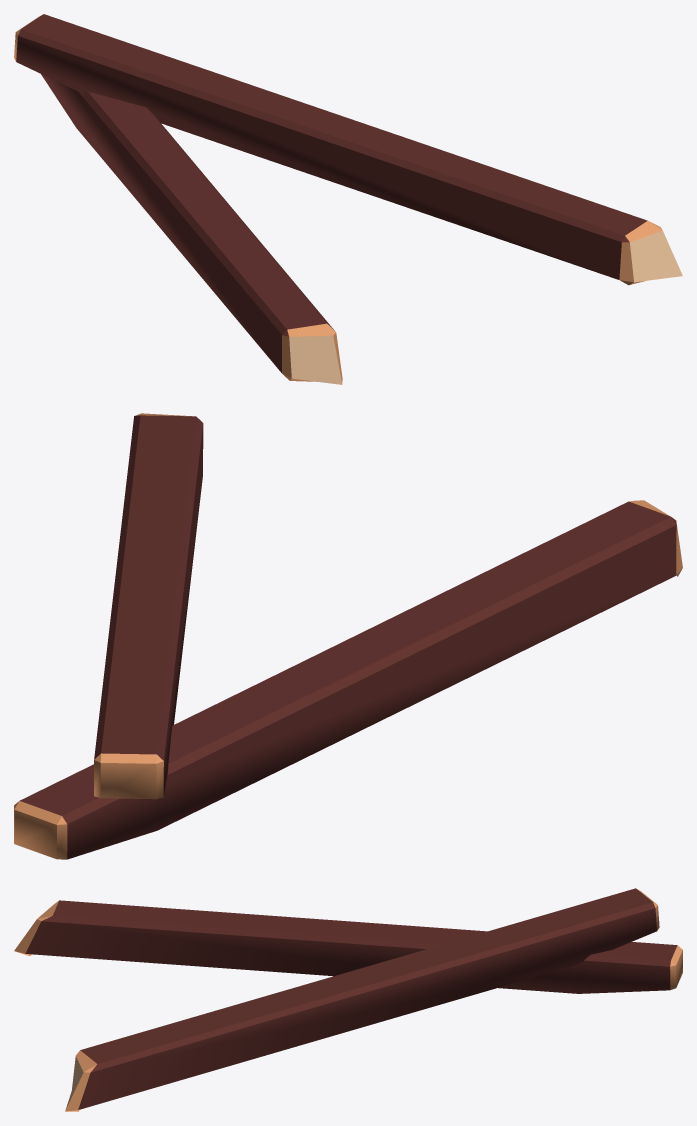
The model's file is Tronco 1 PRONTO.fbx.
3 renders of one model, top to bottom at view 1: azimuth 30°, elevation 25°; view 2: azimuth 150°, elevation 25°; view 3: azimuth 270°, elevation 25°, orthographic. The views are drawn at different scales.
Visible parts, largest first — view 1: polySurface1.002, polySurface1.001; view 2: polySurface1.001, polySurface1.002; view 3: polySurface1.002, polySurface1.001.
Boxes of the visible parts, x1=… form: polySurface1.002: x1=14, y1=14, x2=682, y2=285; polySurface1.001: x1=41, y1=74, x2=342, y2=384; polySurface1.001: x1=14, y1=500, x2=682, y2=859; polySurface1.002: x1=94, y1=413, x2=203, y2=799; polySurface1.002: x1=65, y1=888, x2=659, y2=1111; polySurface1.001: x1=14, y1=900, x2=682, y2=993.
Size of the model in its own units: 227 by 50.63 by 371.
